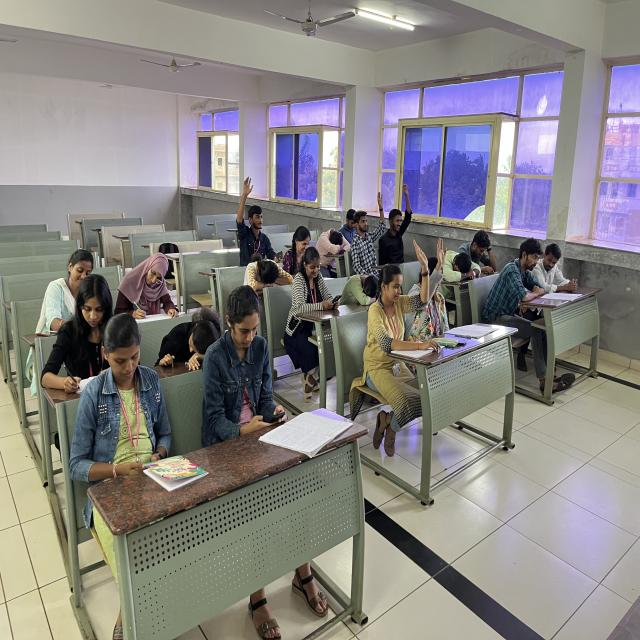Hand Rising: (358, 237, 432, 351), (229, 158, 283, 258), (348, 185, 398, 278), (412, 227, 453, 332), (379, 173, 425, 263)
Sleeping: (156, 305, 230, 383), (229, 244, 296, 300), (336, 258, 382, 313), (434, 246, 484, 290), (320, 217, 352, 265)
Using Phone: (70, 300, 202, 454), (202, 282, 304, 428), (289, 245, 344, 333)
Writing: (30, 280, 139, 400), (111, 237, 196, 329)
